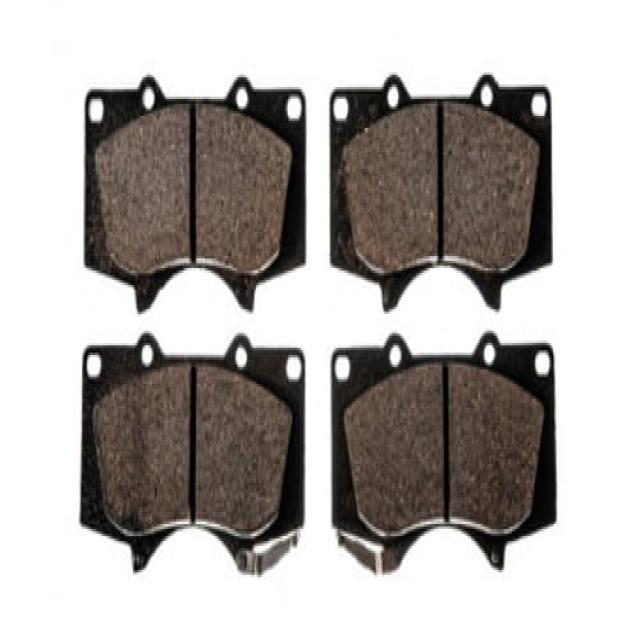brake_pad: (75, 328, 314, 585), (325, 326, 563, 582), (323, 68, 566, 312), (79, 66, 313, 318)
